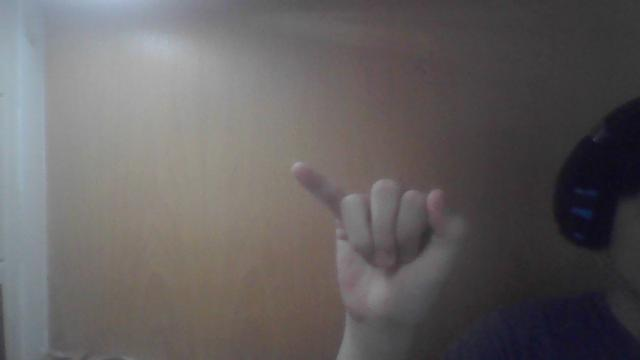Right: (273, 146, 462, 326)
